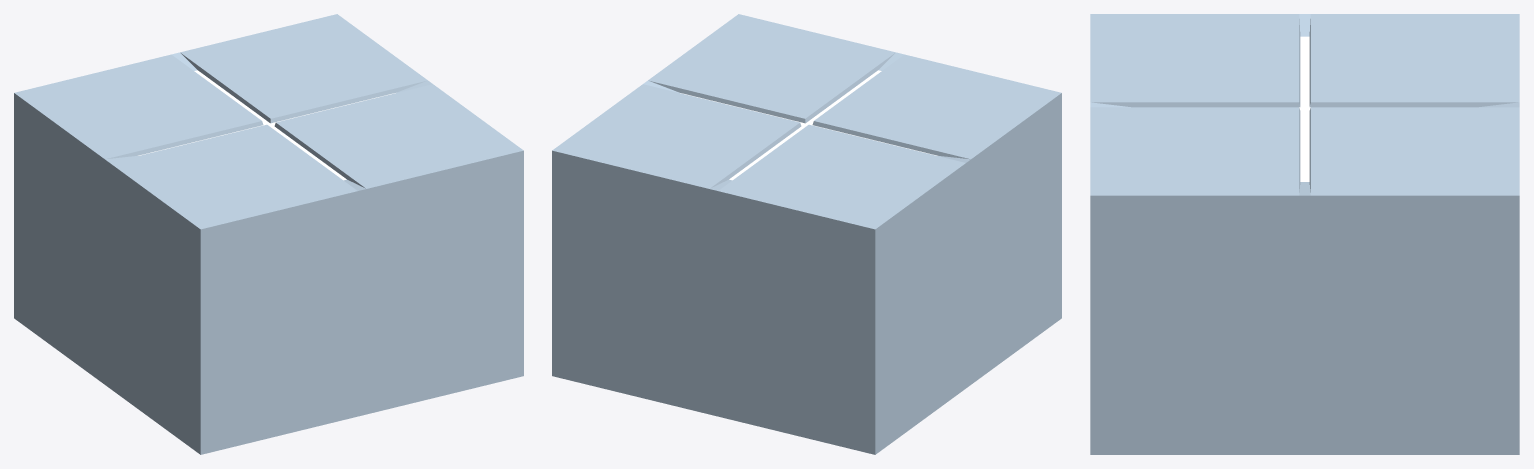
Rendered from BaseChunk.fbx.
3 views of the same model, side by side, from view 1: azimuth 30°, elevation 25°; view 2: azimuth 150°, elevation 25°; view 3: azimuth 270°, elevation 25° (orthographic). The views are drawn at different scales.
Parts seen in each view (by area): view 1: BaseChunk; view 2: BaseChunk; view 3: BaseChunk.
Part boxes in pixels (left/top/right/bottom): BaseChunk: left=14, top=14, right=523, bottom=454; BaseChunk: left=552, top=14, right=1061, bottom=454; BaseChunk: left=1090, top=14, right=1519, bottom=454.
Bounding box in the file's own units: 600 × 400 × 600.
